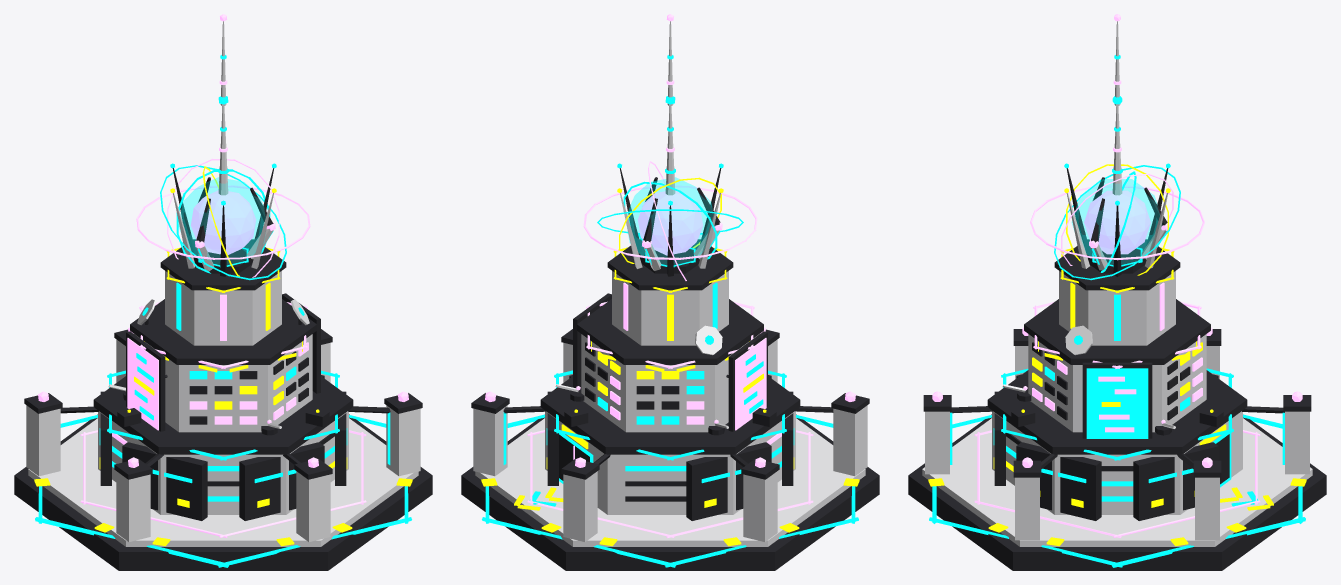
Rendered from CoreNexus.fbx.
The picture shows the model from 3 angles, left to right: view 1: azimuth 30°, elevation 25°; view 2: azimuth 150°, elevation 25°; view 3: azimuth 270°, elevation 25°; orthographic projection.
Visible parts, largest first — view 1: Nexus_PlatformTop, Nexus_Platform, Nexus_Tier2, Nexus_Band1, Nexus_Tier3, NexusMk3_CoreShell, Nexus_Band2, Nexus_Tier1, NexusMk2_Plate2, NexusMk2_Plate3, Nexus_EnergyCore, Nexus_Roof (+16 smaller); view 2: Nexus_PlatformTop, Nexus_Platform, Nexus_Tier2, Nexus_Band1, Nexus_Tier1, Nexus_Tier3, Nexus_Band2, NexusMk3_CoreShell, NexusMk2_Plate1, Nexus_EnergyCore, Nexus_Roof, Nexus_Pylon4 (+15 smaller); view 3: Nexus_PlatformTop, Nexus_Platform, Nexus_Band1, Nexus_Tier3, Nexus_Tier2, NexusMk3_CoreShell, Nexus_Band2, Nexus_Tier1, Nexus_BillScreen1, NexusMk2_Plate0, NexusMk2_Plate4, Nexus_EnergyCore (+15 smaller).
Part boxes in pixels (left/top/right/bottom): Nexus_PlatformTop: left=28, top=418, right=418, bottom=546; Nexus_Platform: left=14, top=414, right=432, bottom=570; Nexus_Tier2: left=134, top=334, right=312, bottom=432; Nexus_Band1: left=93, top=376, right=353, bottom=454; Nexus_Tier3: left=165, top=271, right=281, bottom=345; NexusMk3_CoreShell: left=179, top=177, right=265, bottom=265; Nexus_Band2: left=130, top=299, right=316, bottom=364; Nexus_Tier1: left=98, top=411, right=348, bottom=514; NexusMk2_Plate2: left=122, top=442, right=207, bottom=520; NexusMk2_Plate3: left=239, top=442, right=324, bottom=520; Nexus_EnergyCore: left=190, top=190, right=256, bottom=254; Nexus_Roof: left=160, top=239, right=286, bottom=290; Nexus_PlatformTop: left=475, top=418, right=865, bottom=546; Nexus_Platform: left=461, top=414, right=879, bottom=570; Nexus_Tier2: left=581, top=334, right=759, bottom=432; Nexus_Band1: left=540, top=376, right=800, bottom=454; Nexus_Tier1: left=545, top=411, right=795, bottom=514; Nexus_Tier3: left=612, top=271, right=728, bottom=345; Nexus_Band2: left=577, top=299, right=763, bottom=364; NexusMk3_CoreShell: left=627, top=177, right=715, bottom=265; NexusMk2_Plate1: left=686, top=442, right=771, bottom=520; Nexus_EnergyCore: left=637, top=190, right=703, bottom=255; Nexus_Roof: left=607, top=239, right=733, bottom=290; Nexus_Pylon4: left=833, top=405, right=867, bottom=476; Nexus_PlatformTop: left=922, top=418, right=1312, bottom=546; Nexus_Platform: left=908, top=414, right=1326, bottom=570; Nexus_Band1: left=987, top=370, right=1247, bottom=454; Nexus_Tier3: left=1059, top=271, right=1175, bottom=345; Nexus_Tier2: left=1028, top=334, right=1206, bottom=432; NexusMk3_CoreShell: left=1071, top=179, right=1159, bottom=264; Nexus_Band2: left=1024, top=299, right=1210, bottom=364; Nexus_Tier1: left=992, top=411, right=1242, bottom=514; Nexus_BillScreen1: left=1086, top=368, right=1148, bottom=438; NexusMk2_Plate0: left=1133, top=442, right=1218, bottom=520; NexusMk2_Plate4: left=1016, top=442, right=1101, bottom=520; Nexus_EnergyCore: left=1084, top=190, right=1150, bottom=254.
Size of the model in its own units: 3.09 by 3.8 by 3.
